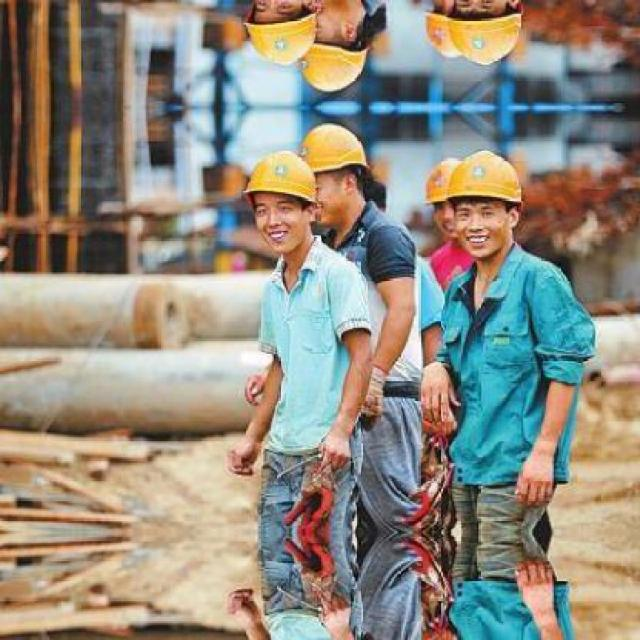helmet: (241, 141, 334, 250), (276, 123, 364, 234), (453, 142, 529, 262), (276, 0, 364, 91), (241, 0, 335, 72), (452, 0, 529, 72), (420, 150, 469, 244), (420, 0, 471, 63)
